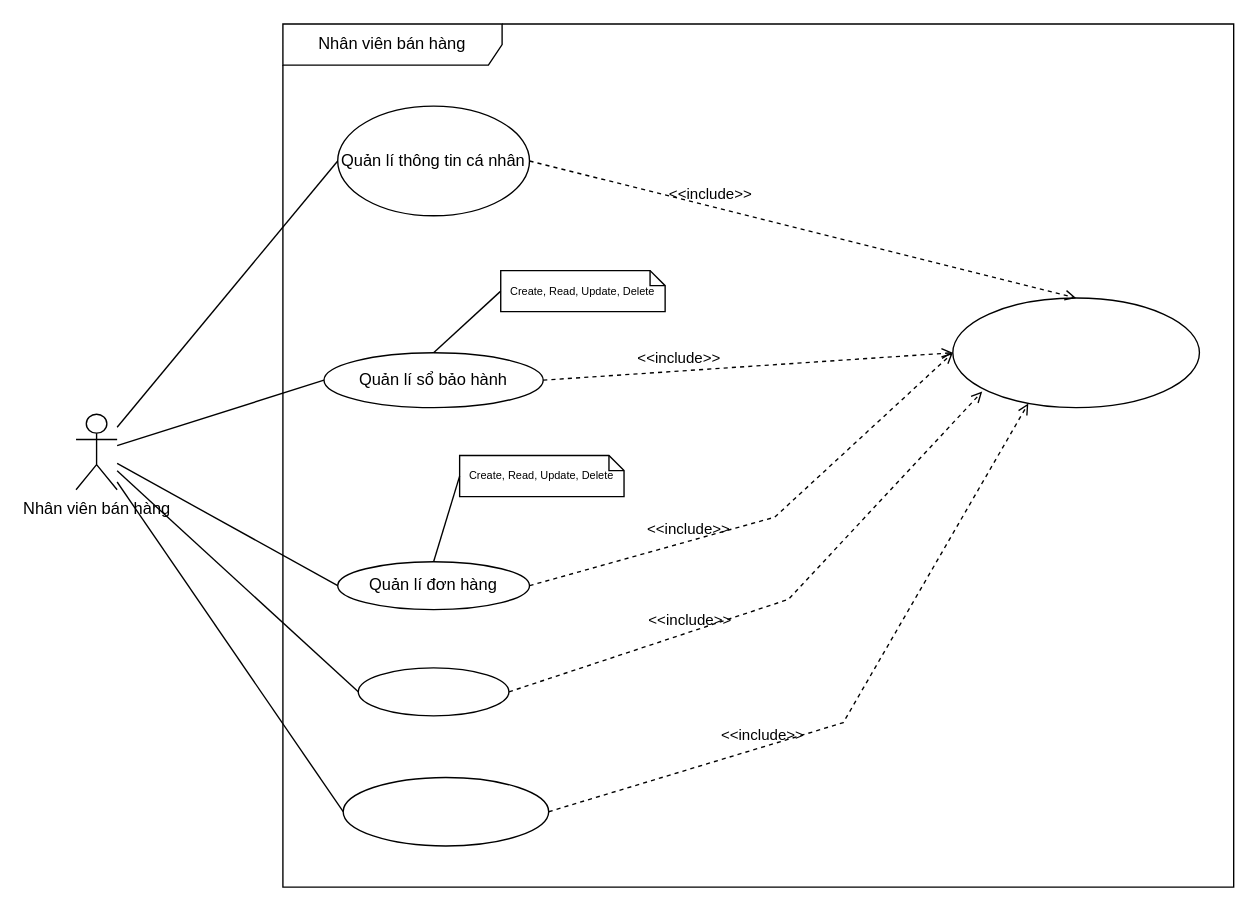
The diagram is 1258 pixels wide and 911 high, and some of its shapes have lost their labels. The shapes that lost their labels are listed below. From the top down, each one's box as (x1, y1, x2, y2) in pixels, then its label:
(951, 297, 1199, 408): Đăng nhập
(357, 667, 509, 716): Tư vấn online
(342, 776, 549, 846): Xem thống kê, dự đoán
